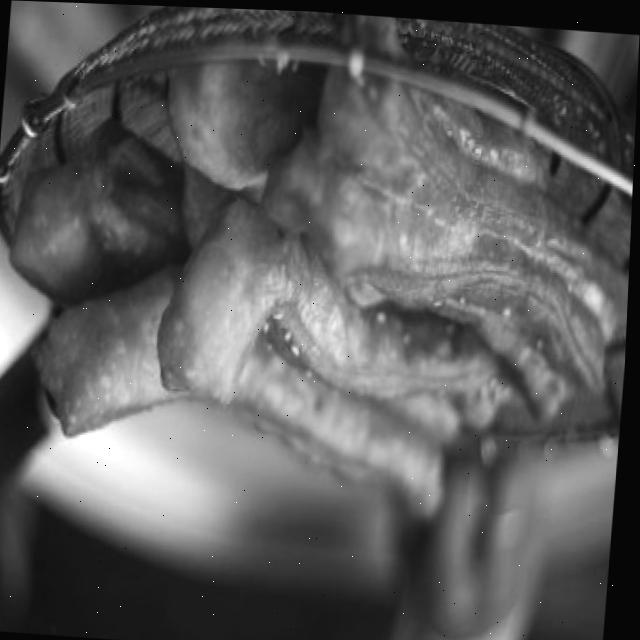炸货点心: (0, 15, 639, 584)
